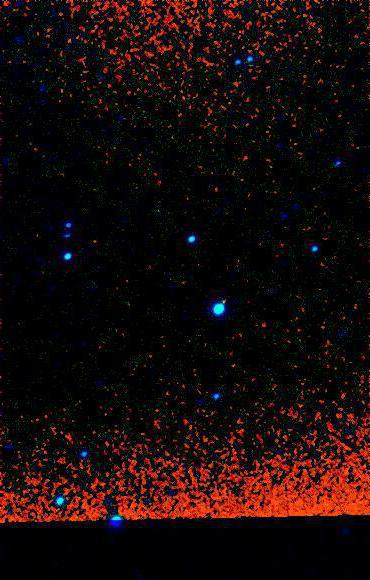star: (209, 286, 239, 316)
